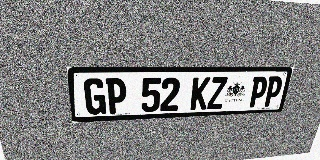2: (160, 77, 180, 111)
5: (141, 78, 161, 112)
G: (83, 78, 106, 115)
K: (190, 77, 211, 110)
P: (105, 78, 126, 114), (247, 76, 269, 107), (262, 76, 284, 107)
Z: (207, 77, 228, 109)
